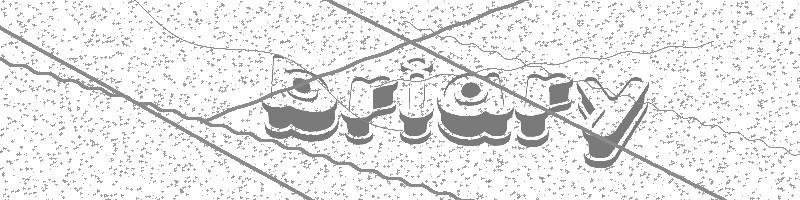a: (435, 71, 514, 148)
b: (261, 53, 341, 142)
i: (399, 56, 434, 147)
r: (516, 72, 572, 149), (342, 75, 398, 149)
y: (576, 75, 651, 171)
